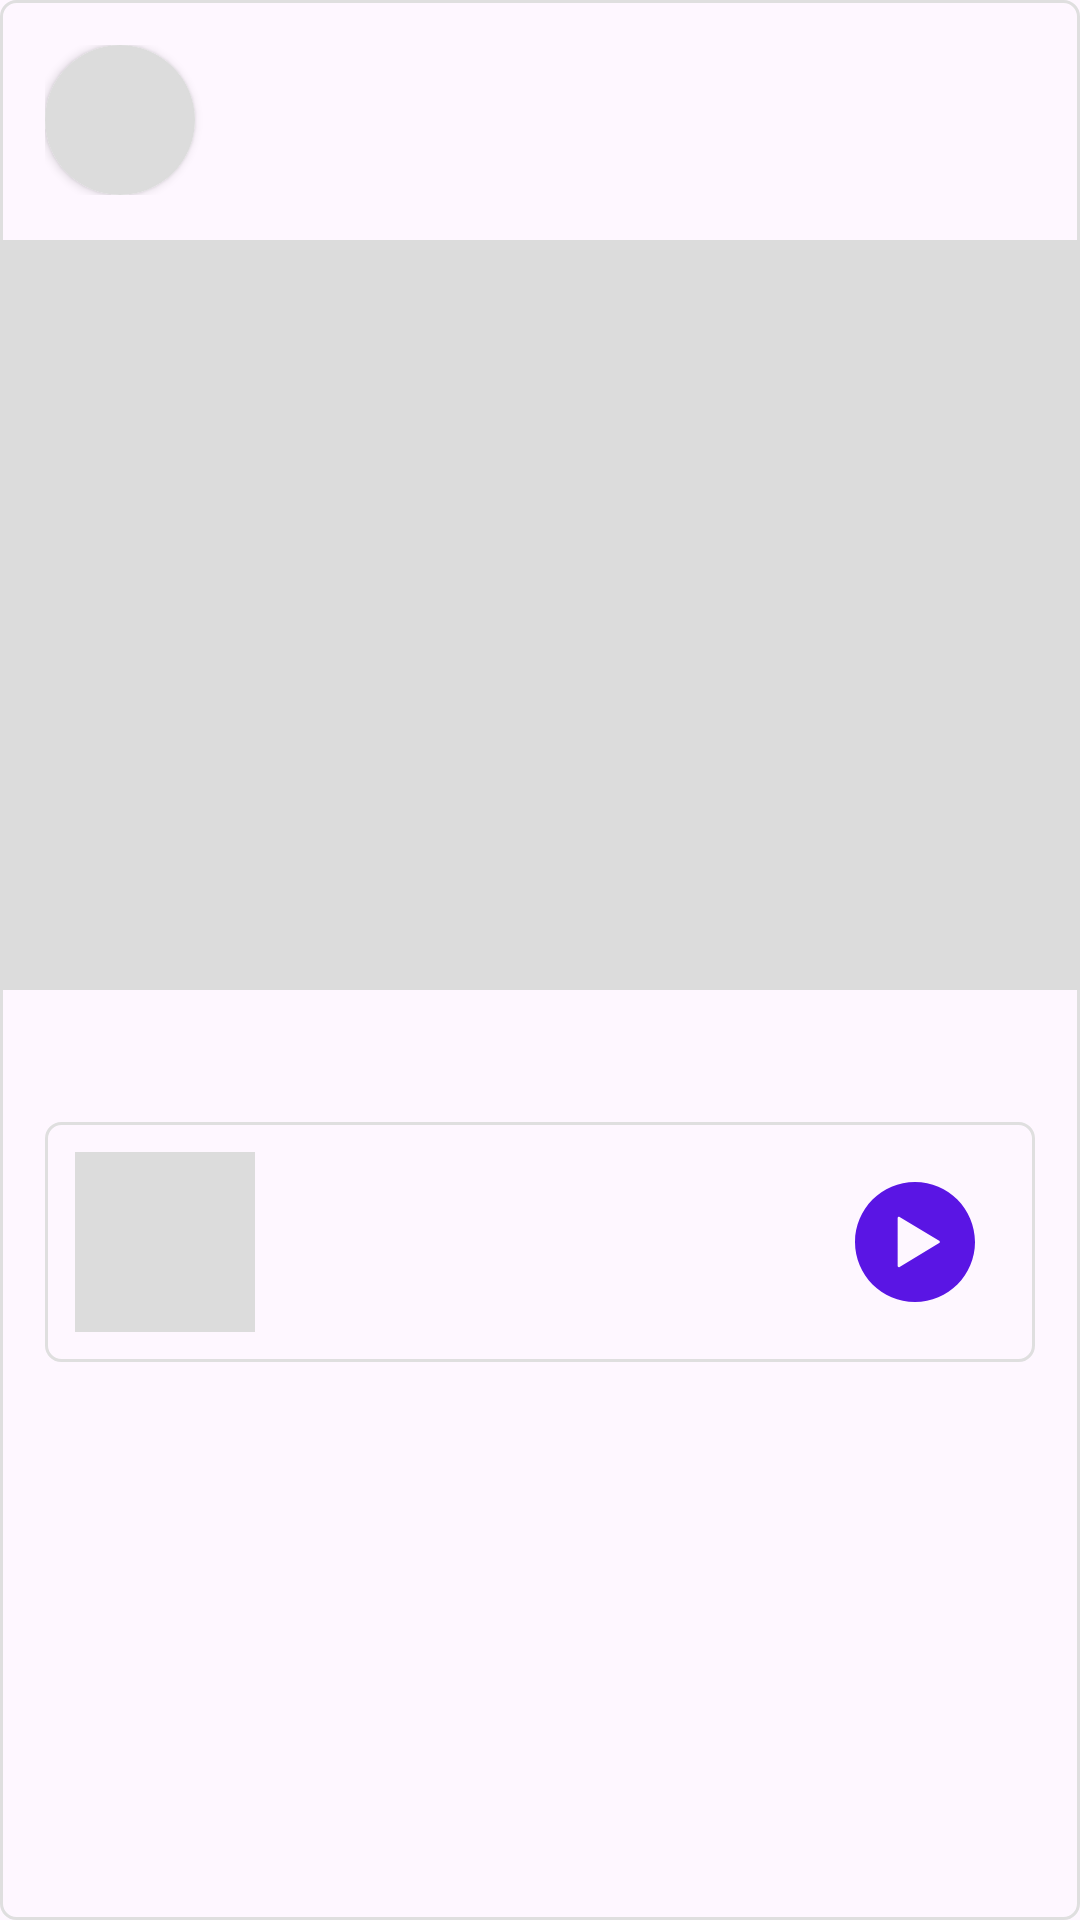

Icon click points for this 1080*1920 phone screenshot, format [x,y]:
player: [915,1242]
